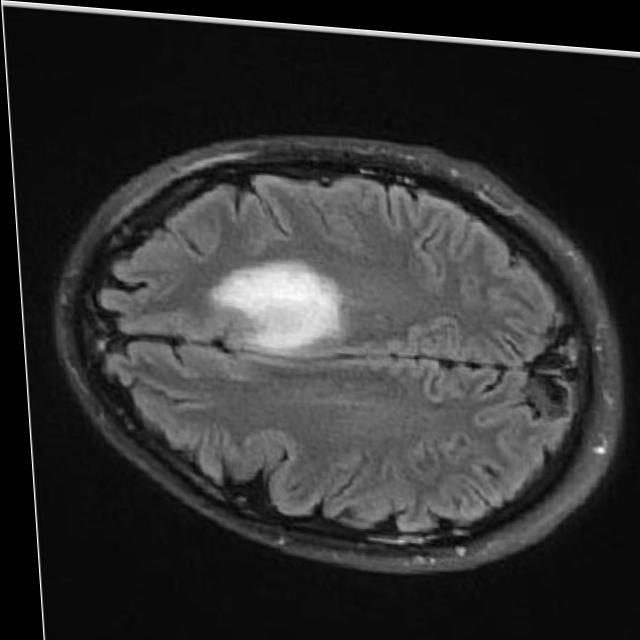Tumor: (208, 256, 334, 344)
